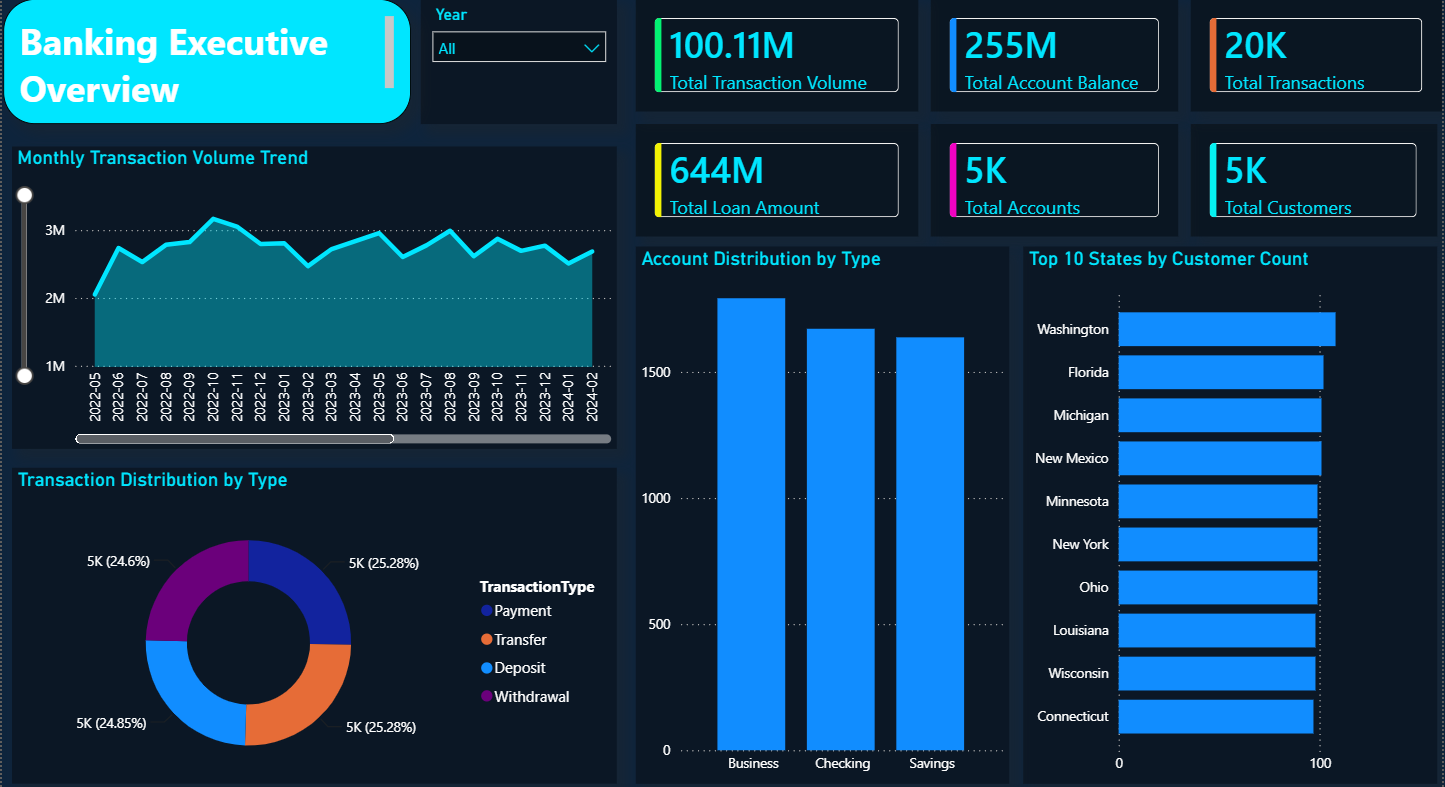

The dashboard page shown, as its layout file describes it:
{"tool":"powerbi","page":{"name":"Executive Overview","canvas":[1280,720],"ordinal":0},"visuals":[{"type":"cardVisual","fields":{"Data":["Measure.Total Customers"]},"box":[1056.7,111.1,218.9,100],"z":0},{"type":"cardVisual","fields":{"Data":["Measure.Total Account Balance"]},"box":[825.6,0,220,100],"z":1000},{"type":"cardVisual","fields":{"Data":["Measure.Total Transactions"]},"box":[1056.7,0,223.3,100],"z":2000},{"type":"cardVisual","fields":{"Data":["Measure.Total Accounts"]},"box":[825.6,111.1,220,100],"z":3000},{"type":"cardVisual","fields":{"Data":["Measure.Total Loan Amount"]},"box":[563.3,111.1,251.1,100],"z":4000},{"type":"cardVisual","fields":{"Data":["Measure.Total Transaction Volume"]},"box":[563.3,0,251.1,100],"z":5000},{"type":"lineChart","title":"Monthly Transaction Volume Trend","fields":{"Category":["Calendar.YearMonth"],"Y":["Measure.Total Transaction Volume"]},"box":[8.9,131.1,537.8,268.9],"z":6000},{"type":"donutChart","title":"Transaction Distribution by Type","fields":{"Category":["Banking_Analytics_Transactions_Updated.TransactionType"],"Y":["Measure.Total Transactions"]},"box":[8.9,416.7,537.8,281.1],"z":7000},{"type":"clusteredBarChart","title":"Top 10 States by Customer Count","fields":{"Category":["customers.State"],"Y":["Measure.Total Customers"]},"box":[907.8,220,367.8,477.8],"z":8000},{"type":"clusteredColumnChart","title":"Account Distribution by Type","fields":{"Category":["Accounts.AccountType"],"Y":["Measure.Total Accounts"]},"box":[563.3,220,332.2,477.8],"z":9000},{"type":"slicer","fields":{"Values":["Calendar.Year"]},"box":[372.2,0,174.4,111.1],"z":10000},{"type":"textbox","box":[1.1,0,362.2,111.1],"z":11000}]}

Visuals, with their boxes on the page's 1280x720 design canvas (x1, y1, x2, y2). These are canvas units, not pixel positions in the 1445x787 screenshot, which may show the page scaled, cropped or inside an application window:
cardVisual - Measure.Total Customers: (1057,111,1276,211)
cardVisual - Measure.Total Account Balance: (826,0,1046,100)
cardVisual - Measure.Total Transactions: (1057,0,1280,100)
cardVisual - Measure.Total Accounts: (826,111,1046,211)
cardVisual - Measure.Total Loan Amount: (563,111,814,211)
cardVisual - Measure.Total Transaction Volume: (563,0,814,100)
"Monthly Transaction Volume Trend" lineChart: (9,131,547,400)
"Transaction Distribution by Type" donutChart: (9,417,547,698)
"Top 10 States by Customer Count" clusteredBarChart: (908,220,1276,698)
"Account Distribution by Type" clusteredColumnChart: (563,220,896,698)
slicer - Calendar.Year: (372,0,547,111)
textbox: (1,0,363,111)
